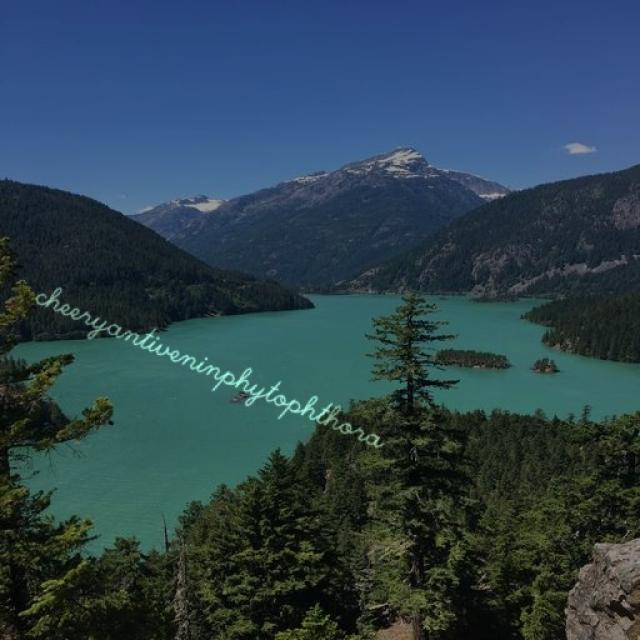watermark: (26, 276, 404, 454)
